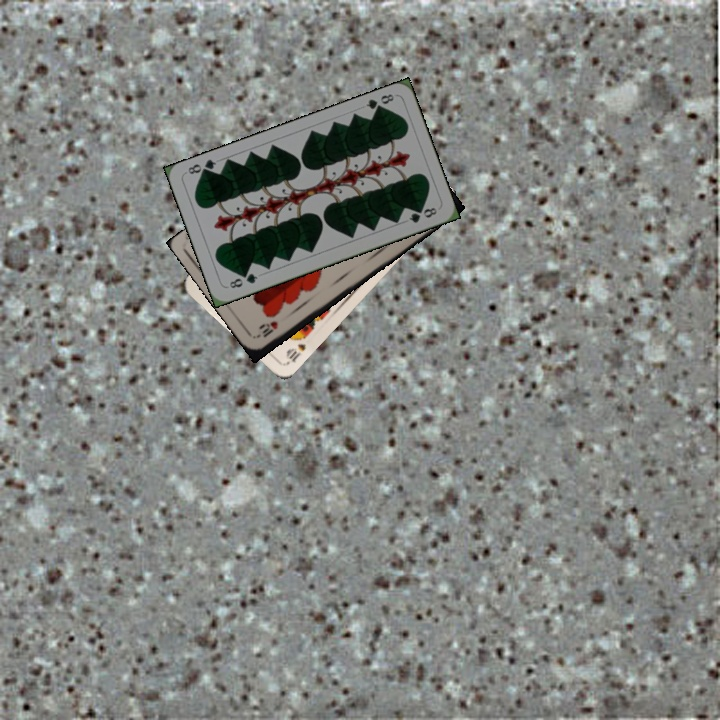G8: (362, 90, 396, 115), (223, 269, 260, 291)
H10: (254, 317, 281, 340)
S10: (282, 339, 308, 365)
